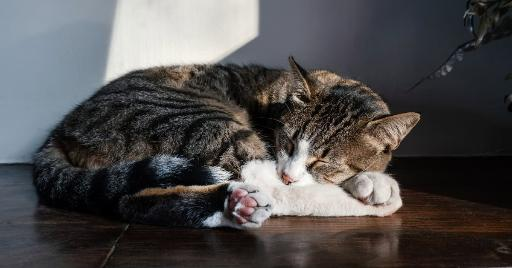cat_sleeping: (33, 57, 420, 229)
